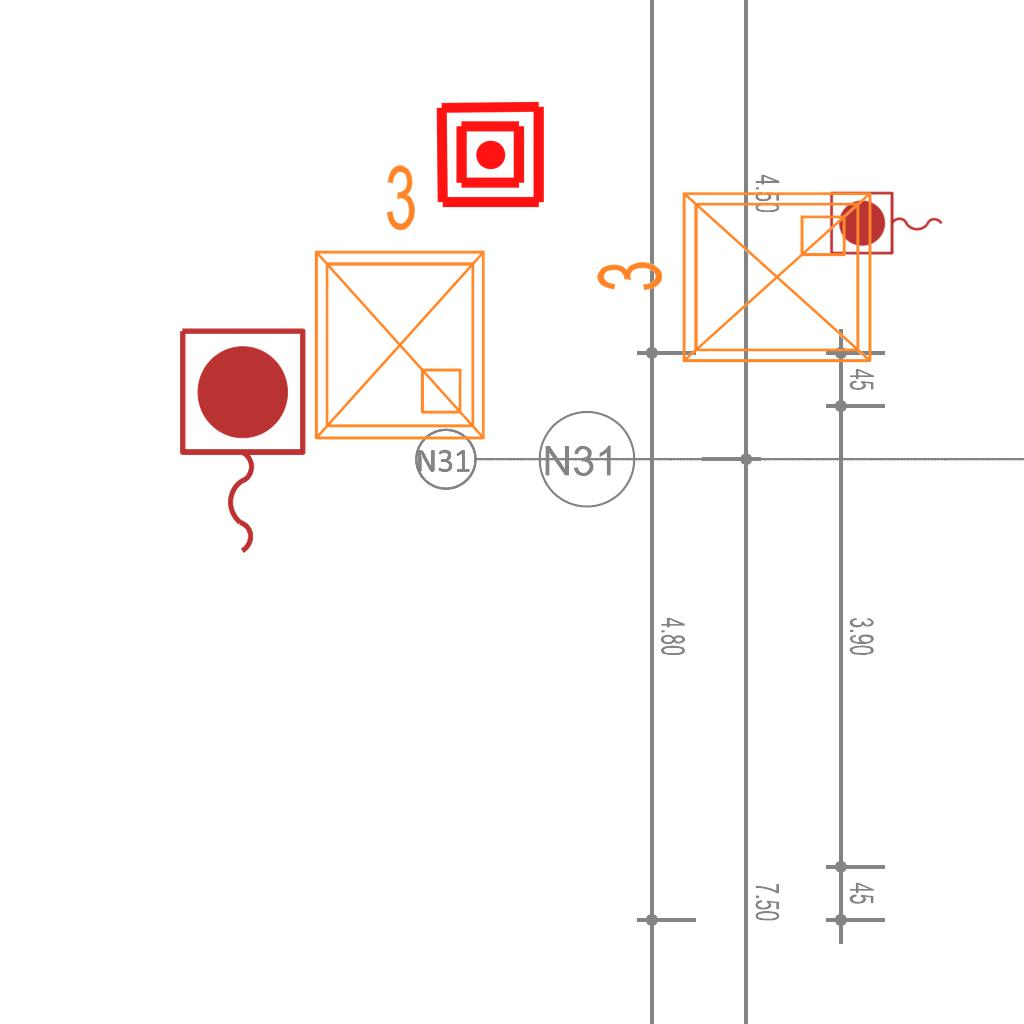Einbaudownlights_LED_Konferenzraeume: (586, 177, 886, 385), (292, 154, 500, 454)
NAM-Nichtautomatischer_Melder: (434, 98, 547, 211)
Zugtaster: (169, 320, 313, 564), (826, 188, 948, 260)
